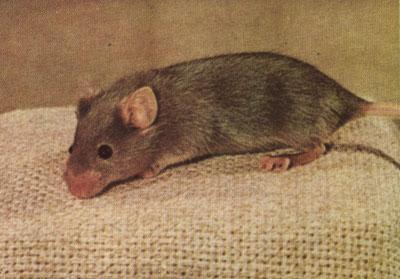rat: (65, 52, 400, 199)
